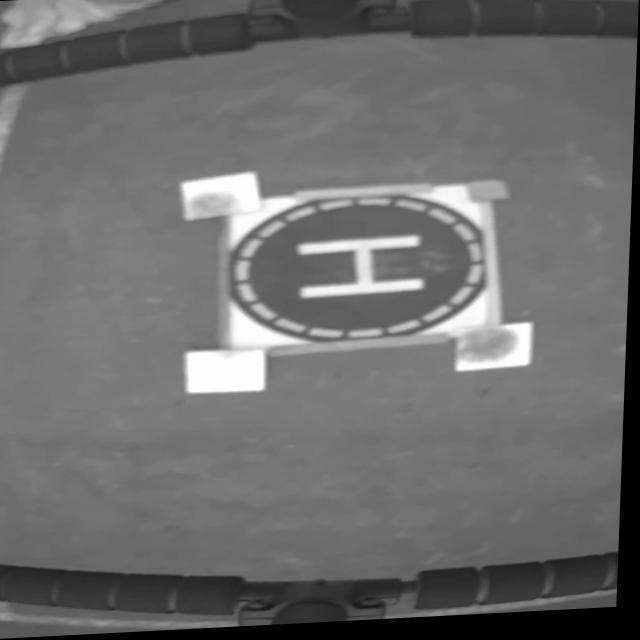Helipad: (297, 235, 431, 302)
